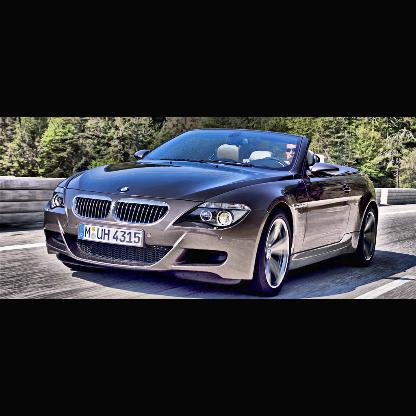BMW M6 Convertible 2010: (45, 129, 380, 296)
